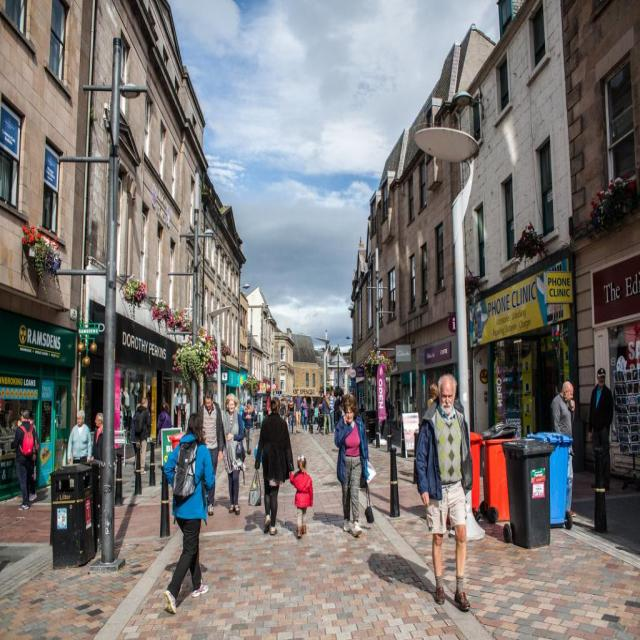Street Light: (99, 36, 147, 572), (191, 169, 214, 472), (236, 283, 252, 417)
